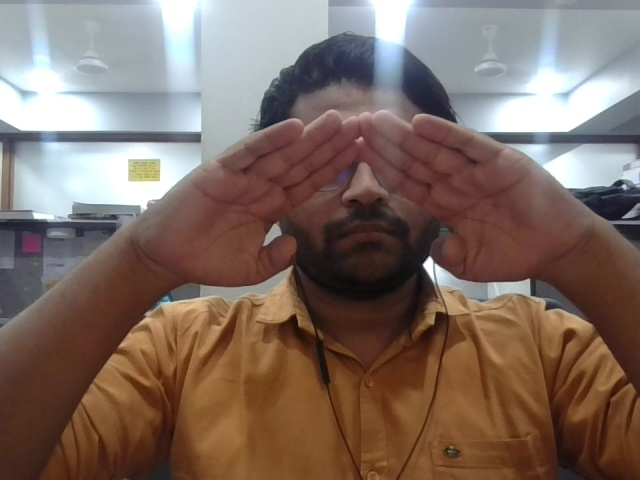ThankYou: (146, 110, 581, 293)
